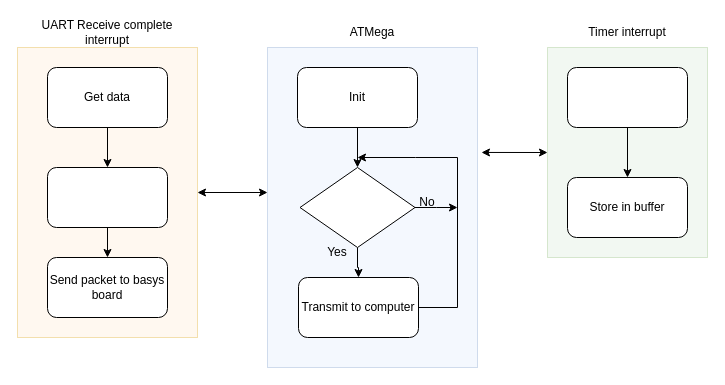
Image size: 725x385. Some labels were removed from this diagram. Here are the shapes that lost their labels. From the top down, the centre of each, then its label:
At pixel 627 97: "Get ADC sample".
At pixel 107 197: "Make packet".
At pixel 357 207: "Is buffer full?".
